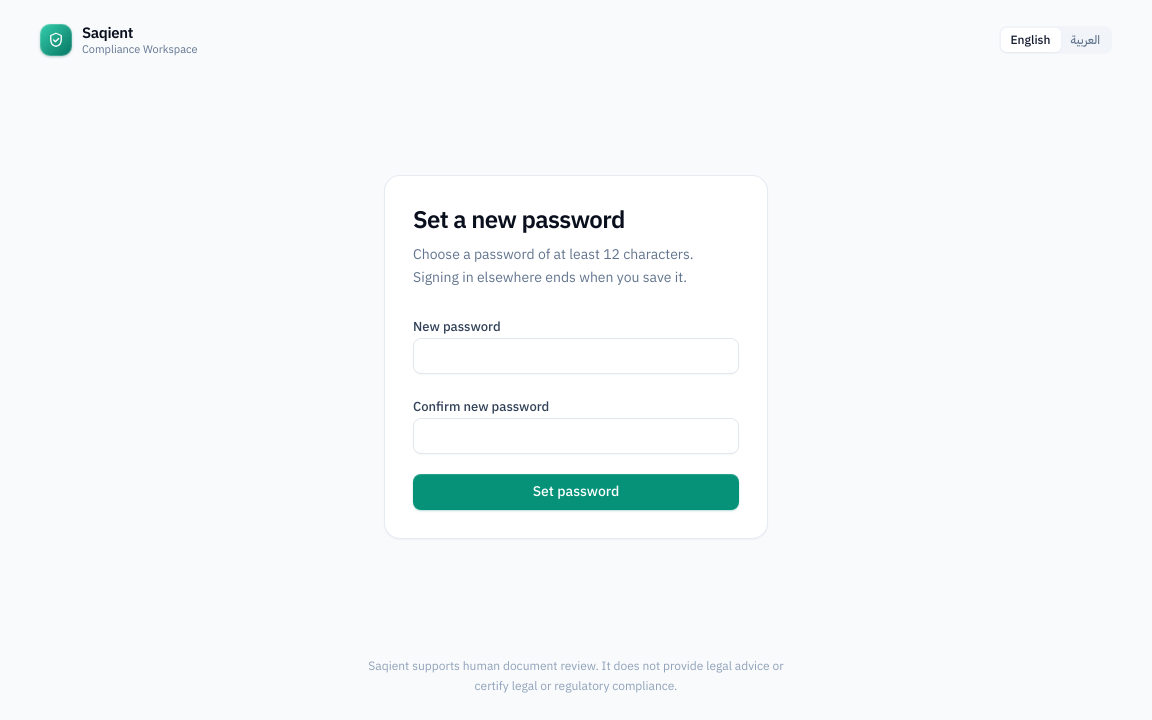
Scenario: password reset › sends the token from the link fragment and removes it from the address bar
Type "a-long-new-password" into the password field labelled "New password" at coordinates (576, 356), box 413,338 -> 739,374
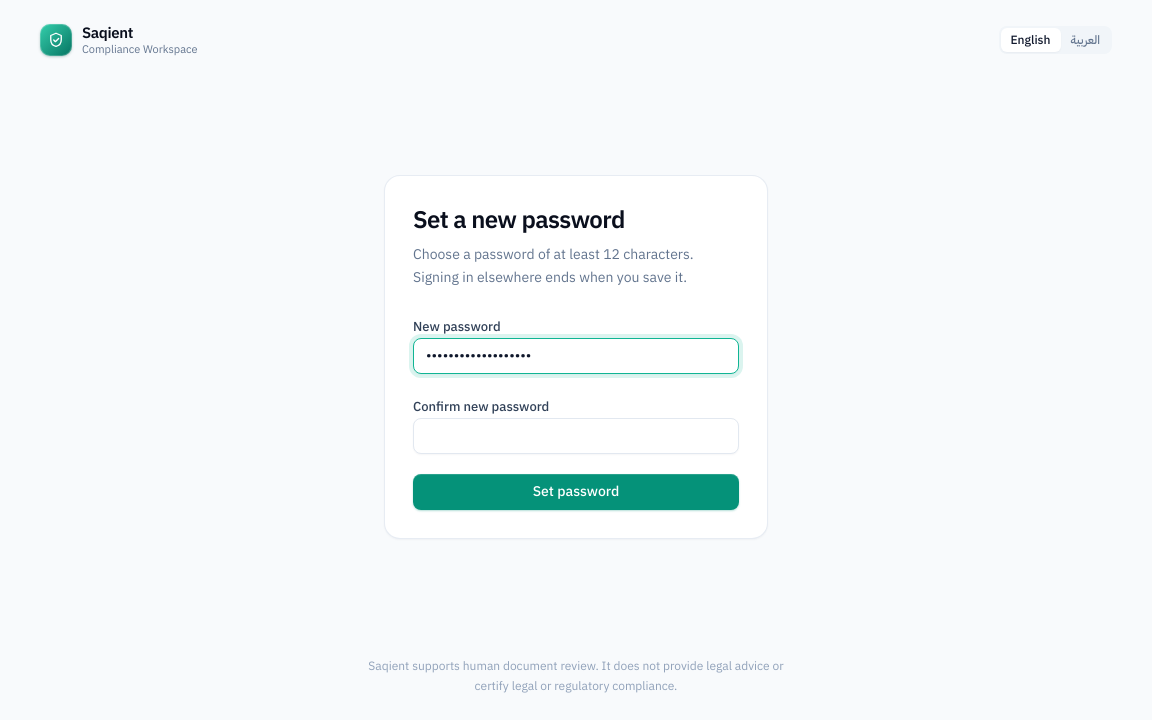
Type "a-long-new-password" into the password field labelled "Confirm new password" at coordinates (576, 436), box 413,418 -> 739,454
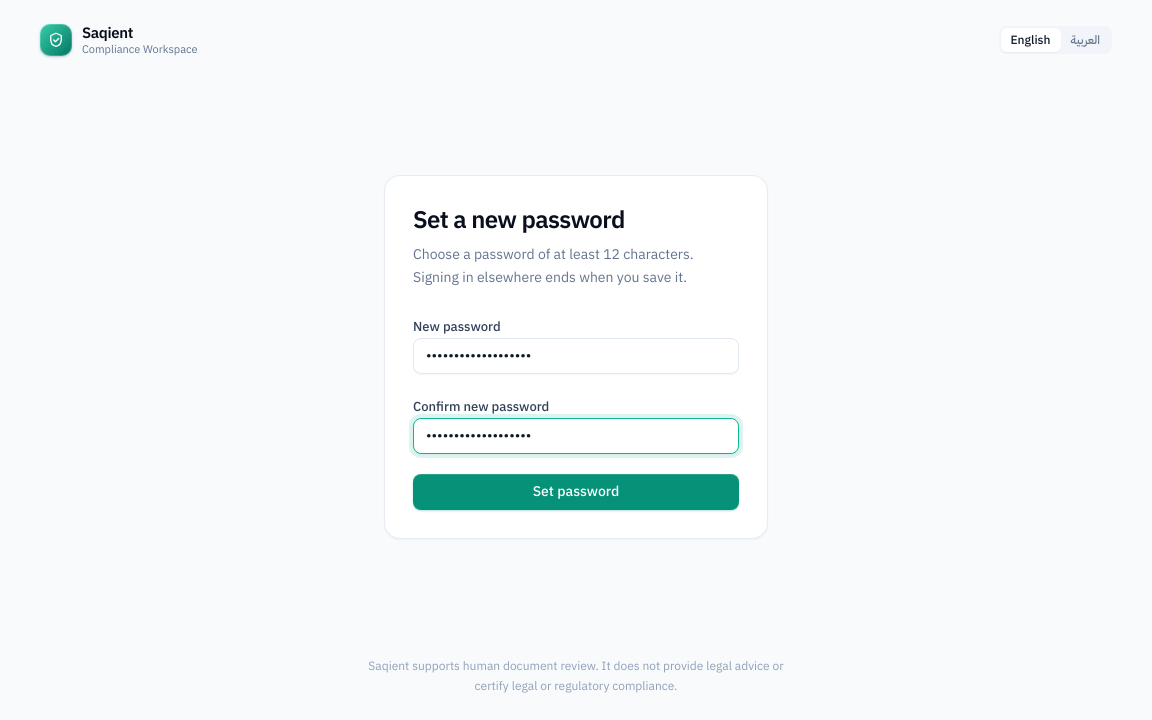
Click the button "Set password" at coordinates (576, 492), box 413,474 -> 739,510
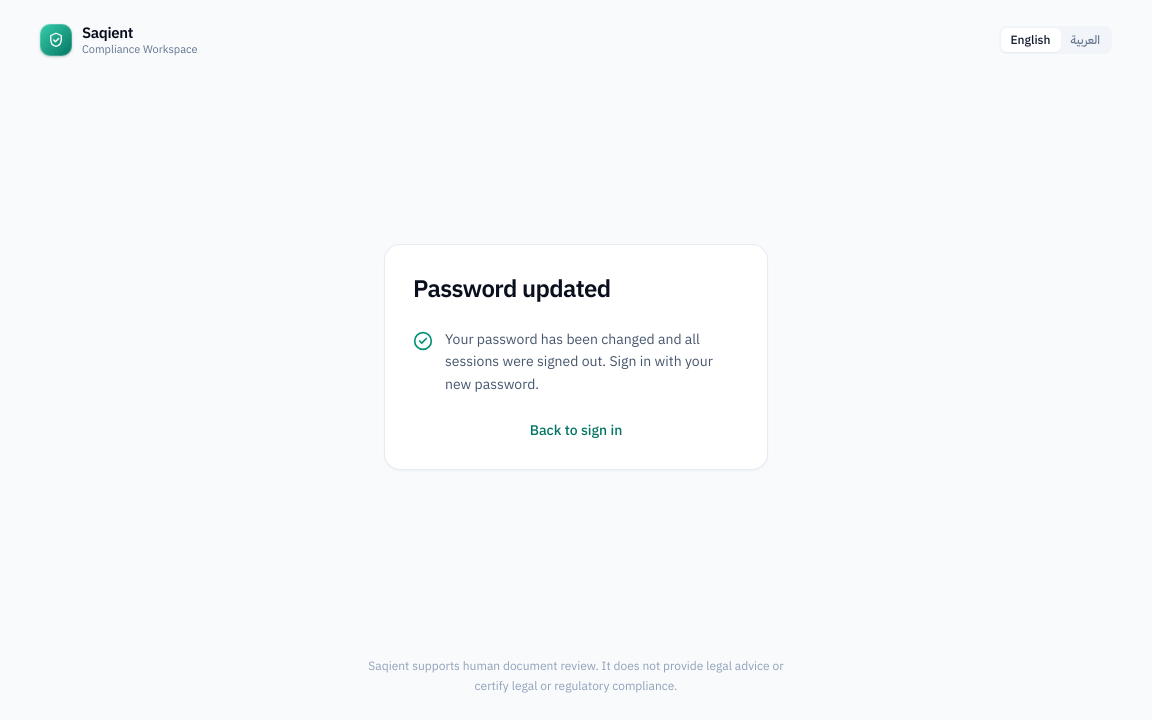
expect the heading "Password updated" is shown: met, box 413,271 -> 611,307
